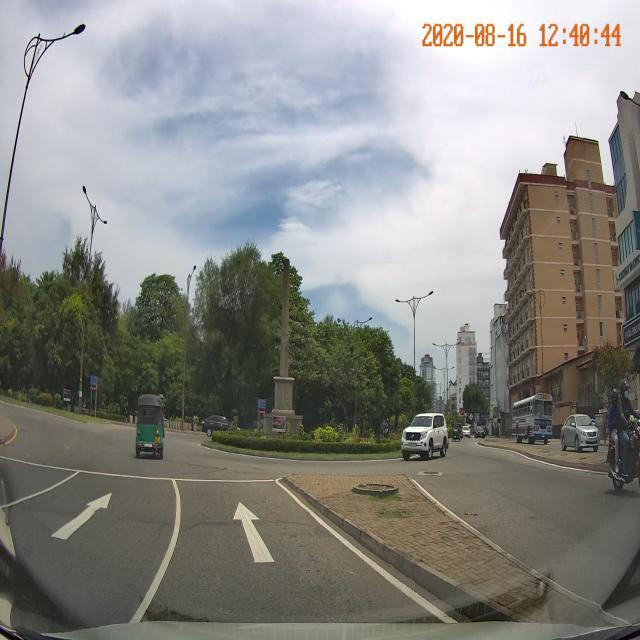forward: (155, 498, 358, 574)
